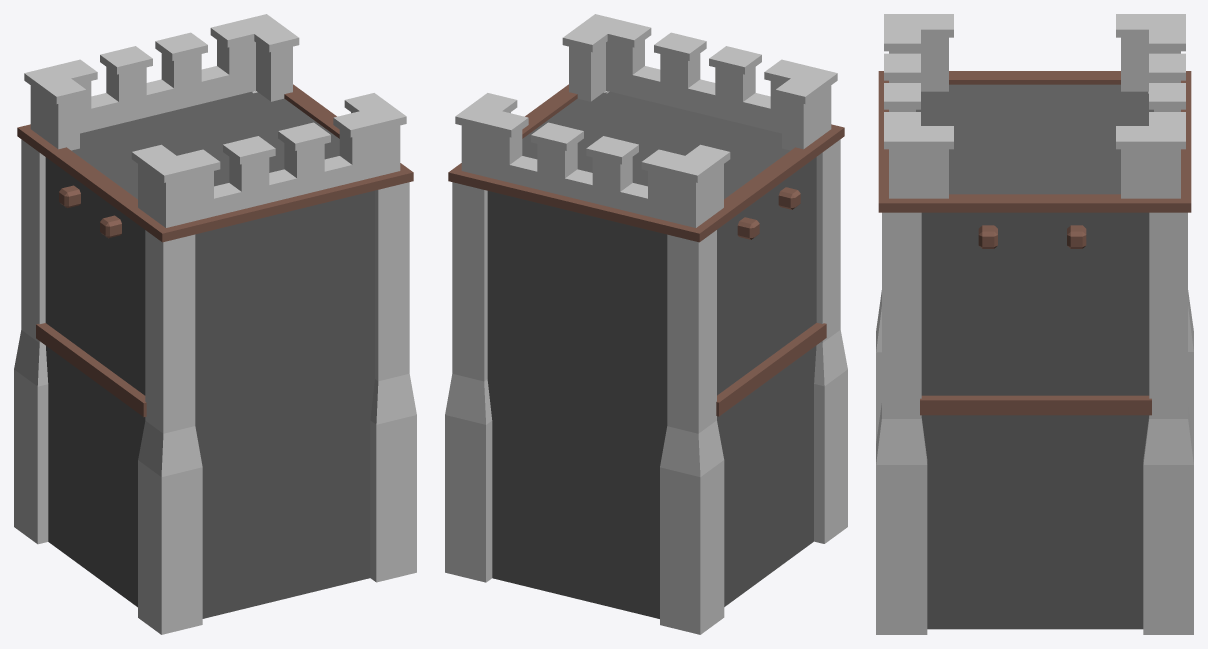
Rendered from torrePorton.fbx.
3 renders of one model, left to right at view 1: azimuth 30°, elevation 25°; view 2: azimuth 150°, elevation 25°; view 3: azimuth 270°, elevation 25°, orthographic. The views are drawn at different scales.
Parts seen in each view (by area): view 1: fortification_tower_small; view 2: fortification_tower_small; view 3: fortification_tower_small.
Part boxes in pixels (left/top/right/bottom): fortification_tower_small: left=14, top=14, right=416, bottom=634; fortification_tower_small: left=445, top=14, right=847, bottom=634; fortification_tower_small: left=876, top=14, right=1193, bottom=634.
Bounding box in the file's own units: 887 × 1459 × 857.
